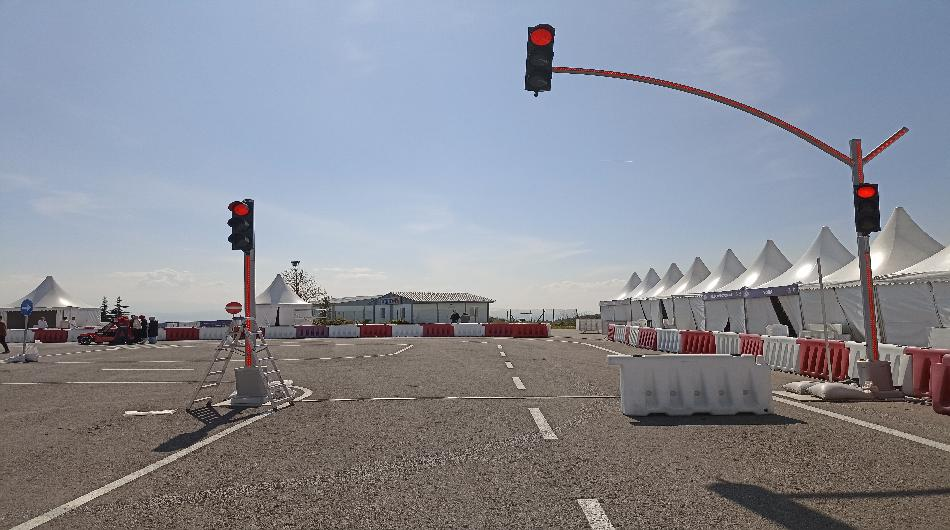red_light: (524, 22, 558, 99), (226, 193, 260, 256), (851, 183, 886, 239)
